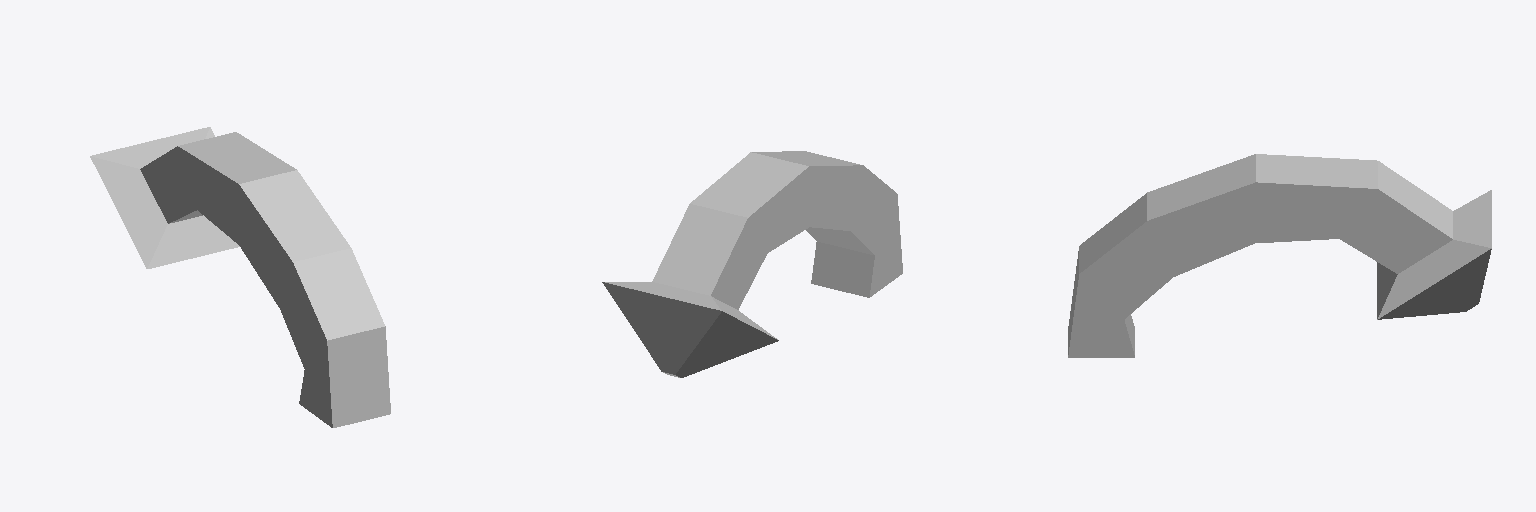
The model's file is boat2_3dex_arrowGyro.obj.
The picture shows the model from 3 angles: view 1: azimuth 30°, elevation 25°; view 2: azimuth 150°, elevation 25°; view 3: azimuth 270°, elevation 25°; orthographic projection.
Visible parts, largest first — view 1: arrowGyro_Cube.001; view 2: arrowGyro_Cube.001; view 3: arrowGyro_Cube.001.
Part boxes in pixels (x1,y1,x2,y2): arrowGyro_Cube.001: (90,127,390,427); arrowGyro_Cube.001: (602,151,902,377); arrowGyro_Cube.001: (1068,154,1491,357).
Bounding box in the file's own units: 4.13 × 5.75 × 12.57.